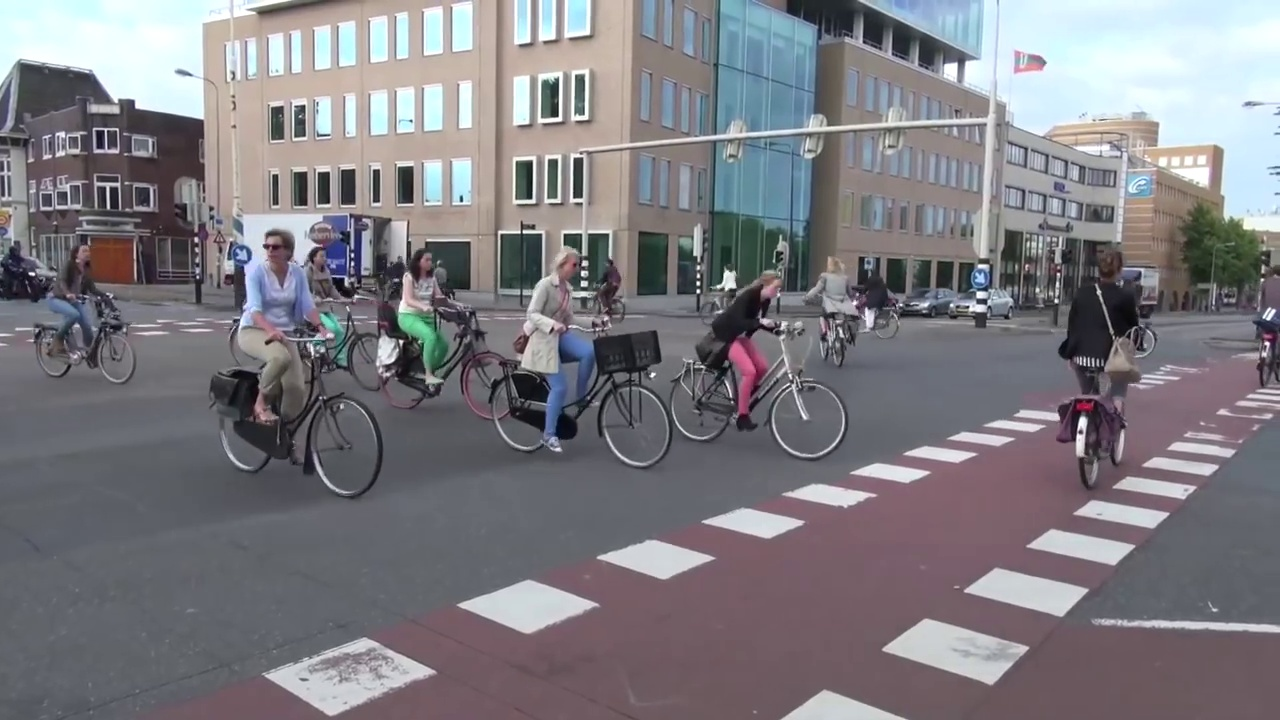cyclist_back: (1058, 233, 1139, 484), (804, 244, 861, 367), (1247, 247, 1276, 391)
cyclist_side: (205, 228, 390, 501), (491, 247, 676, 468), (678, 253, 853, 474), (378, 242, 514, 415), (36, 239, 146, 390)
